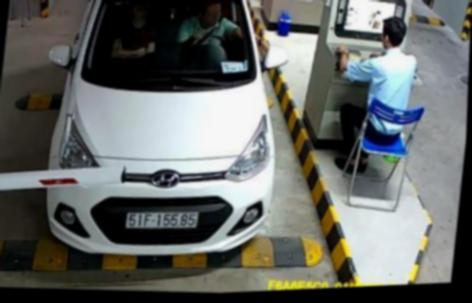License_Plate: (124, 203, 204, 242)
